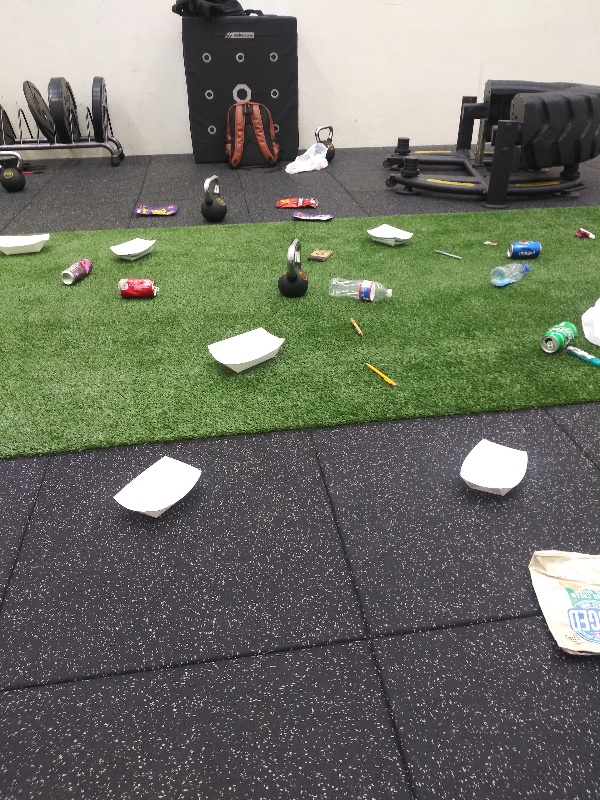bag: (520, 539, 600, 670), (130, 200, 185, 221), (272, 193, 322, 210), (289, 209, 337, 223)
bottle: (322, 272, 395, 306), (486, 258, 534, 290)
can: (536, 316, 580, 356), (57, 255, 95, 289), (115, 276, 162, 301), (504, 235, 545, 261)
plate: (109, 452, 205, 525), (456, 436, 534, 506), (201, 322, 289, 379), (2, 226, 54, 264), (105, 236, 161, 265), (362, 220, 418, 249)
